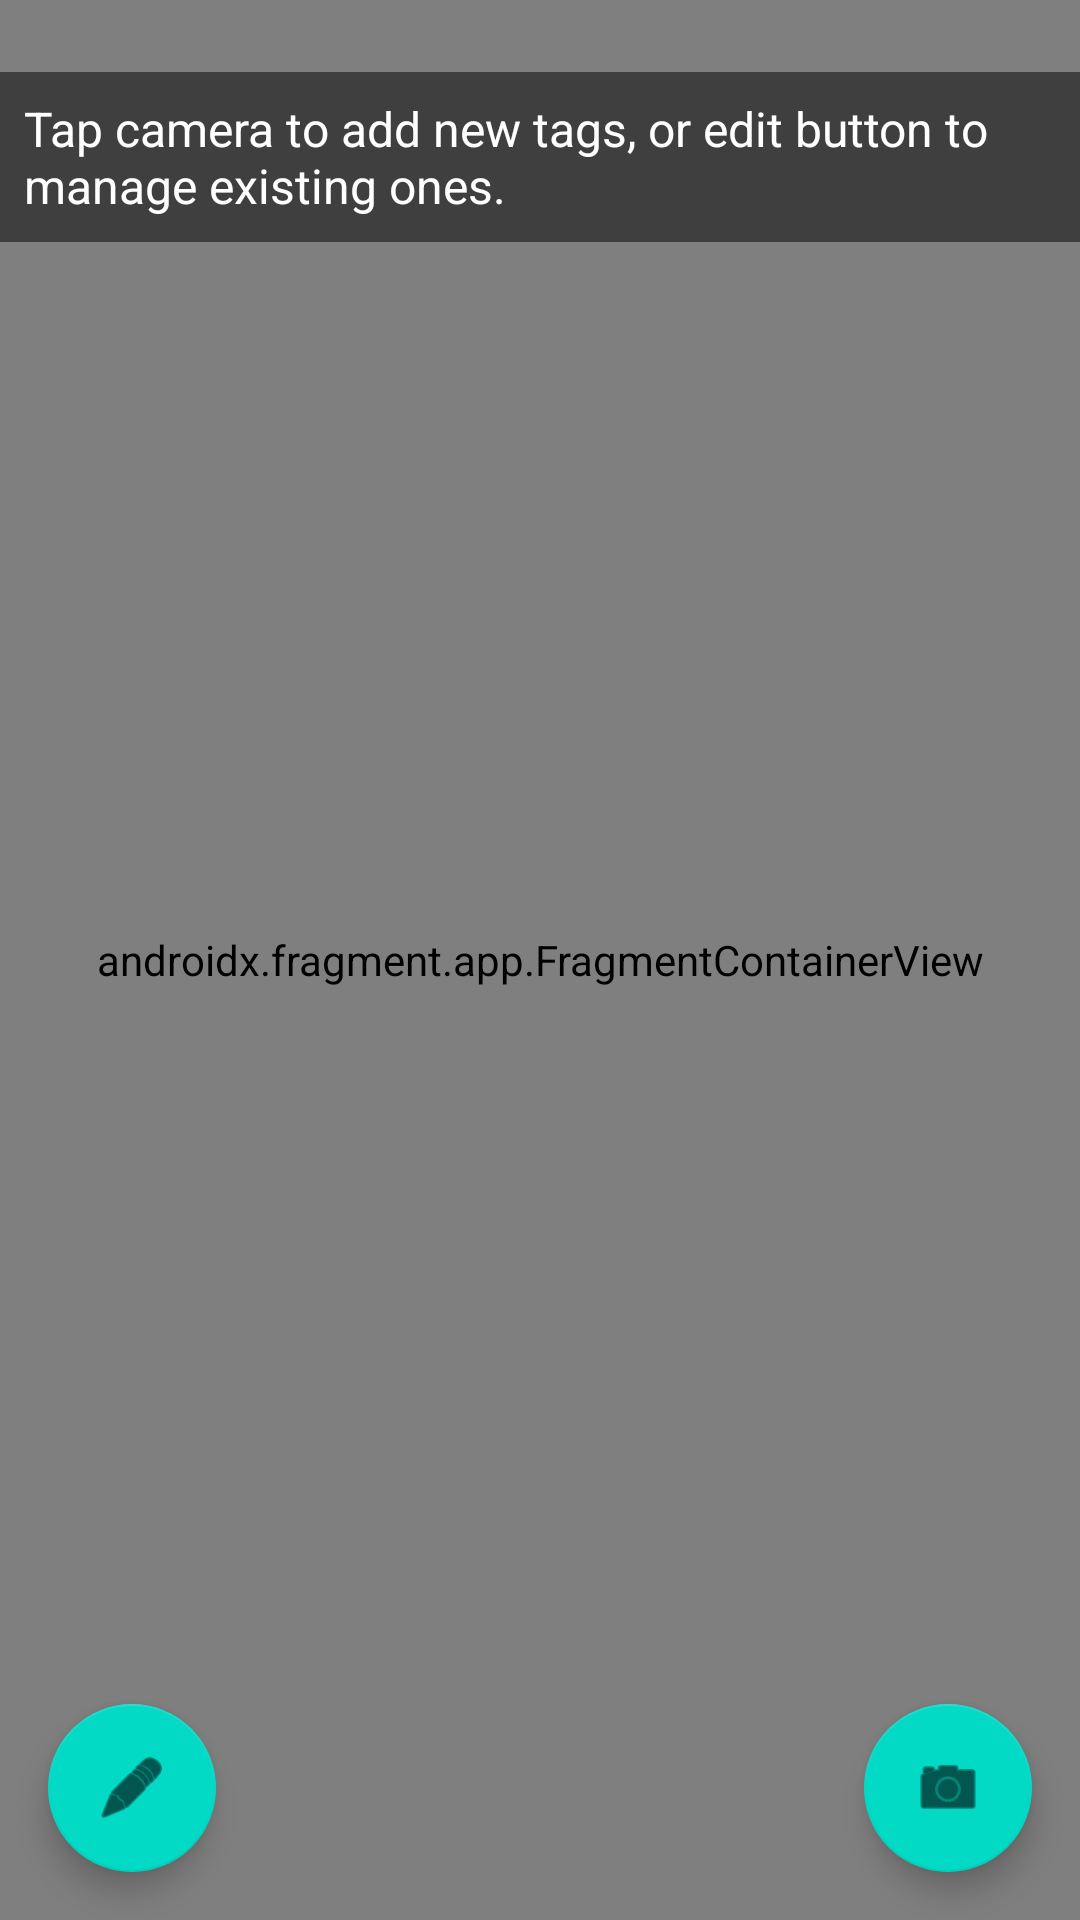

Named icons in this screenshot (1080px×1920px) and their bounding boxes, (x1, y1, x2, y2):
Capture image for AR tracking: (864, 1704, 1032, 1872)
